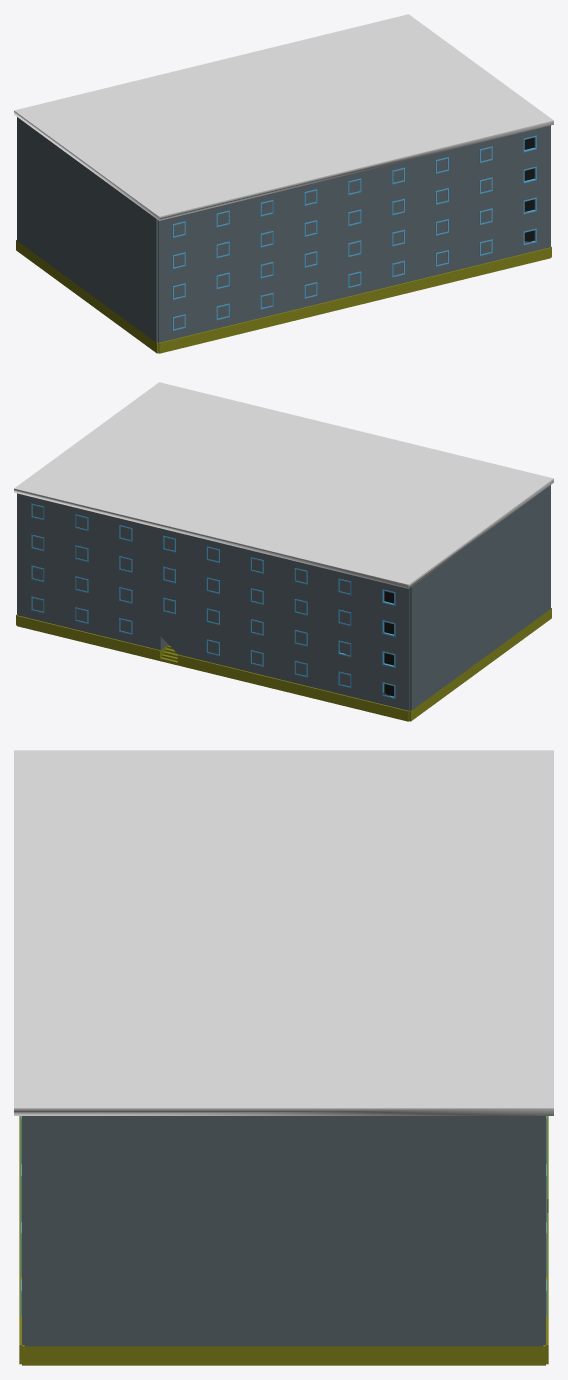
3 renders of one model, top to bottom at view 1: azimuth 30°, elevation 25°; view 2: azimuth 150°, elevation 25°; view 3: azimuth 270°, elevation 25°, orthographic. The views are drawn at different scales.
Visible parts, largest first — view 1: BR40_F04_01; view 2: BR40_F04_01; view 3: BR40_F04_01.
Part boxes in pixels (box(x1,y1,x2,y2)): BR40_F04_01: box(14, 14, 553, 353); BR40_F04_01: box(14, 382, 553, 721); BR40_F04_01: box(14, 750, 553, 1365).
Size of the model in its own units: 4000 by 1340 by 2550.
